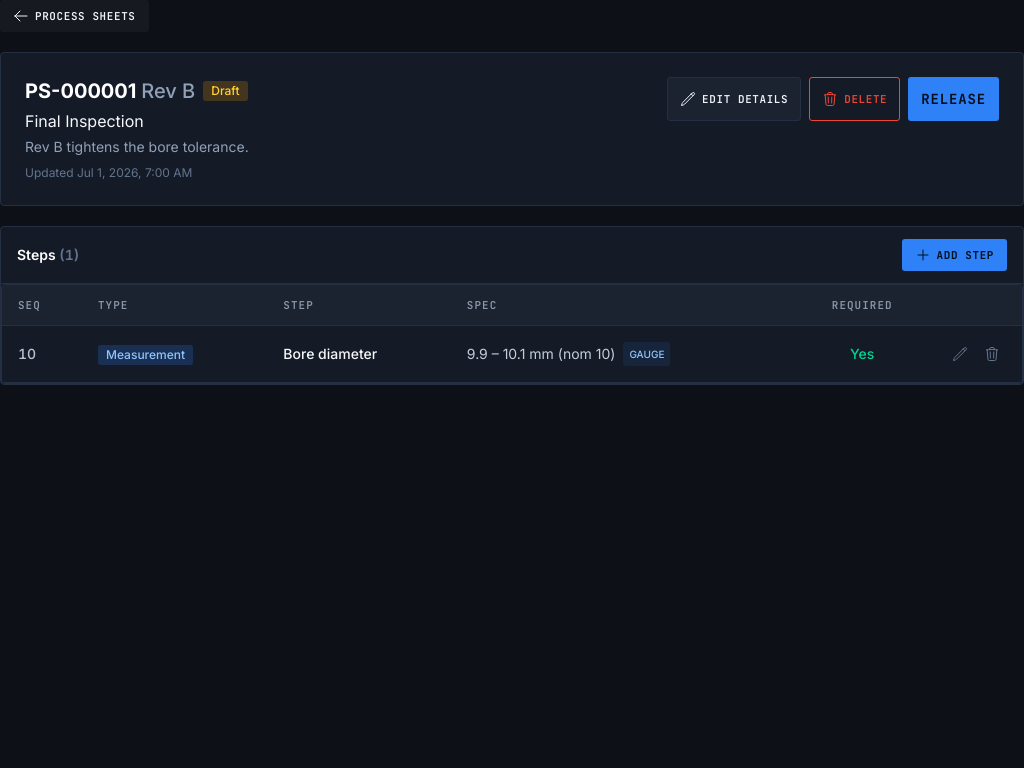
ProcessSheets page › a refused delete-step closes the dialog on settle with the verbatim error toast
Expected: the text "Bore diameter" is shown, [283, 345, 377, 362]
Step 1. Click the button named "Delete step 10" → (992, 354), box [978, 340, 1006, 368]
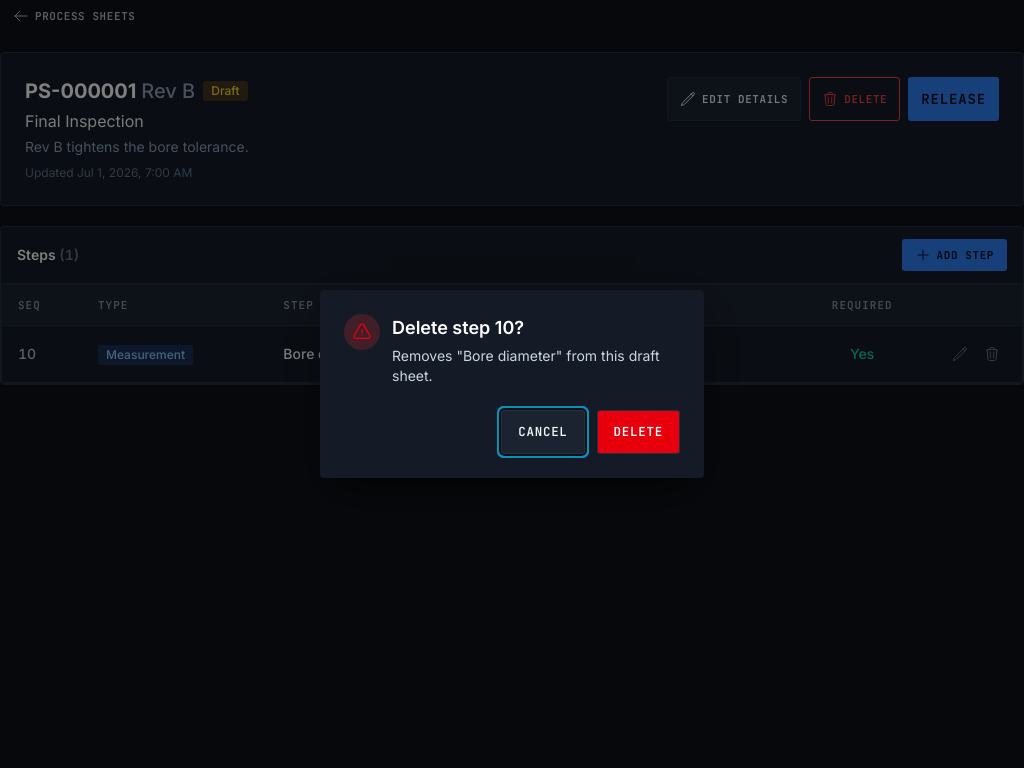
Step 2. Click the button "Delete" → (638, 432), box [597, 410, 680, 454]
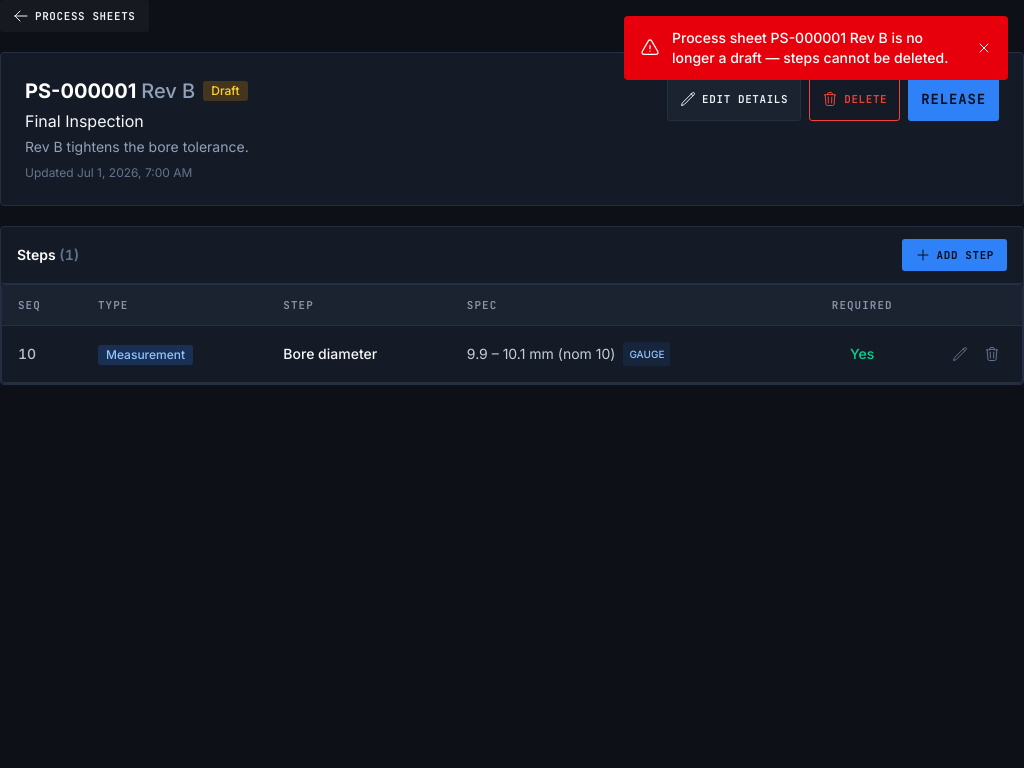
Expected: the text "Process sheet PS-000001 Rev B is no longer a draft — steps cannot be deleted." is shown, [672, 28, 964, 68]
Expected: the dialog is gone
